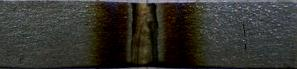soldas: (87, 1, 208, 68)
